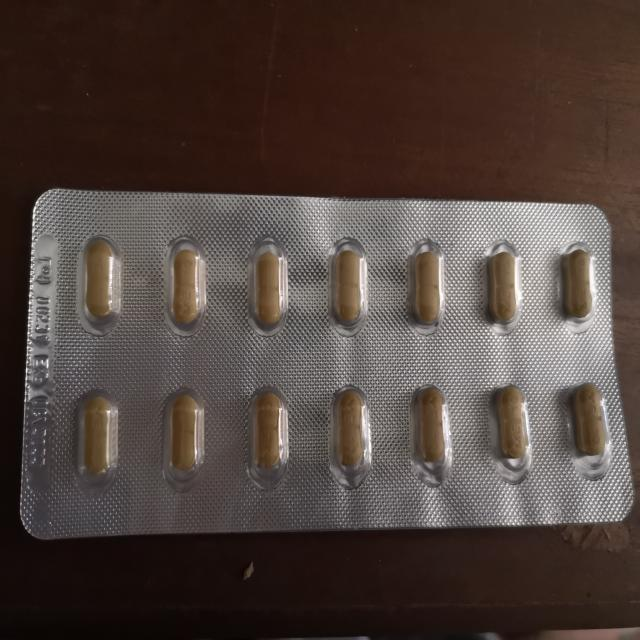Pill: (243, 381, 296, 497), (71, 383, 123, 497), (324, 376, 374, 491), (561, 379, 616, 482), (403, 382, 455, 489), (158, 383, 208, 492), (484, 377, 533, 485), (401, 233, 450, 337), (326, 228, 372, 338), (166, 232, 213, 338), (248, 236, 294, 338), (478, 237, 524, 336), (555, 238, 601, 332), (84, 237, 129, 331)
